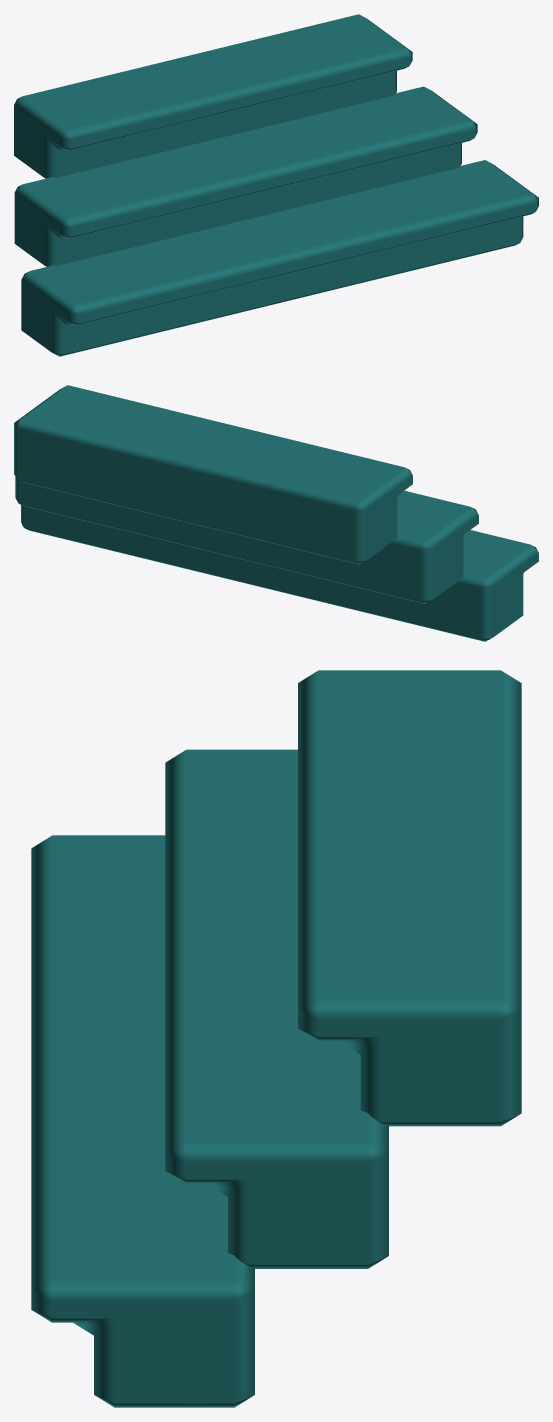
The model's file is SM_Stairs_Door.fbx.
3 renders of one model, top to bottom at view 1: azimuth 30°, elevation 25°; view 2: azimuth 150°, elevation 25°; view 3: azimuth 270°, elevation 25°, orthographic. The views are drawn at different scales.
Visible parts, largest first — view 1: Box050; view 2: Box050; view 3: Box050.
Part boxes in pixels (x1,y1,x2,y2): Box050: (14, 14, 538, 356); Box050: (14, 385, 538, 641); Box050: (31, 670, 521, 1407).
Bounding box in the file's own units: 228 × 80.85 × 102.
